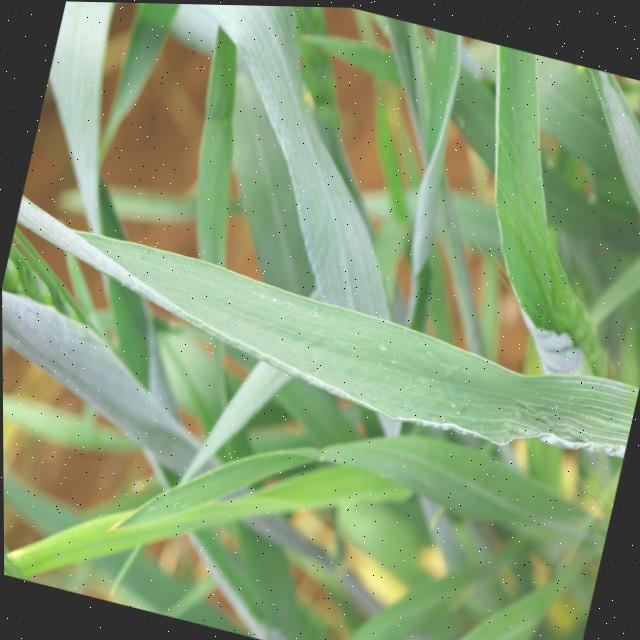healthy_wheat: (1, 191, 567, 555), (93, 349, 621, 640), (15, 0, 454, 309), (394, 31, 640, 381), (3, 482, 71, 587)
